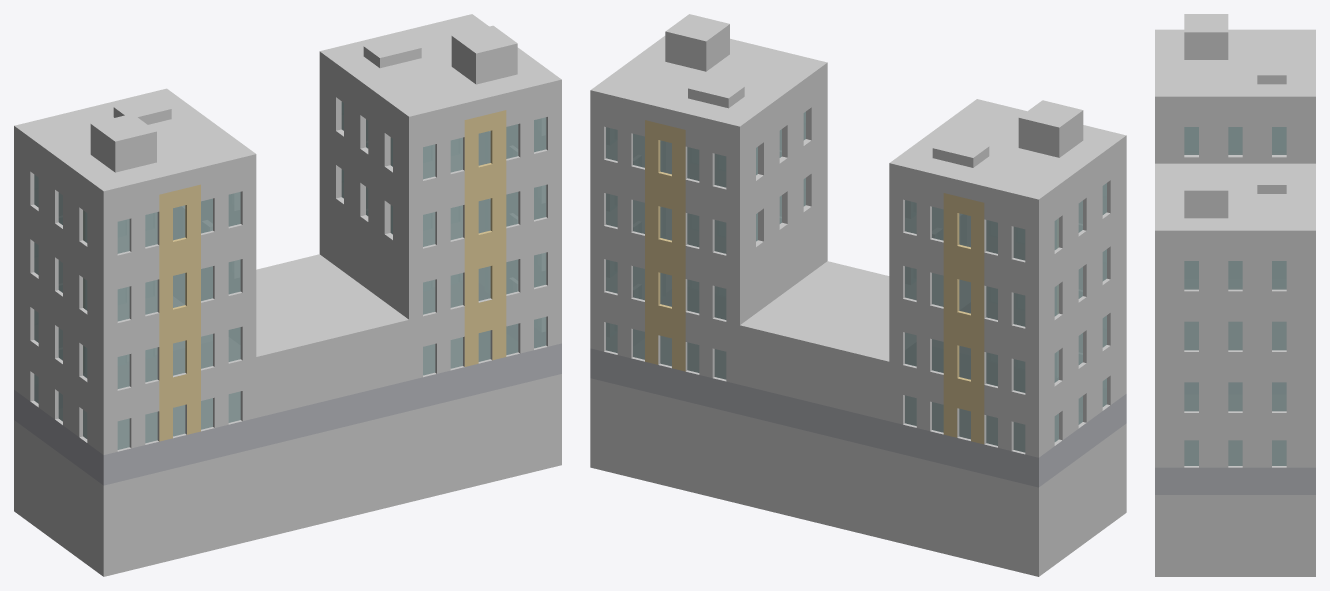
The model's file is haus_3.fbx.
The picture shows the model from 3 angles, left to right: view 1: azimuth 30°, elevation 25°; view 2: azimuth 150°, elevation 25°; view 3: azimuth 270°, elevation 25°; orthographic projection. The views are drawn at different scales.
Parts seen in each view (by area): view 1: pCube1; view 2: pCube1; view 3: pCube1.
Part boxes in pixels (left/top/right/bottom): pCube1: left=14, top=14, right=561, bottom=576; pCube1: left=590, top=14, right=1126, bottom=576; pCube1: left=1155, top=14, right=1315, bottom=576.
Bounding box in the file's own units: 23.62 × 20.53 × 8.
